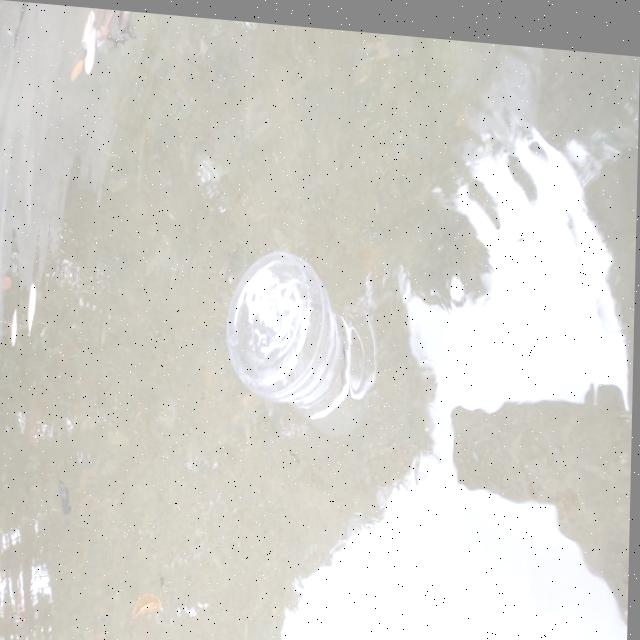waterbottle: (202, 233, 387, 446)
